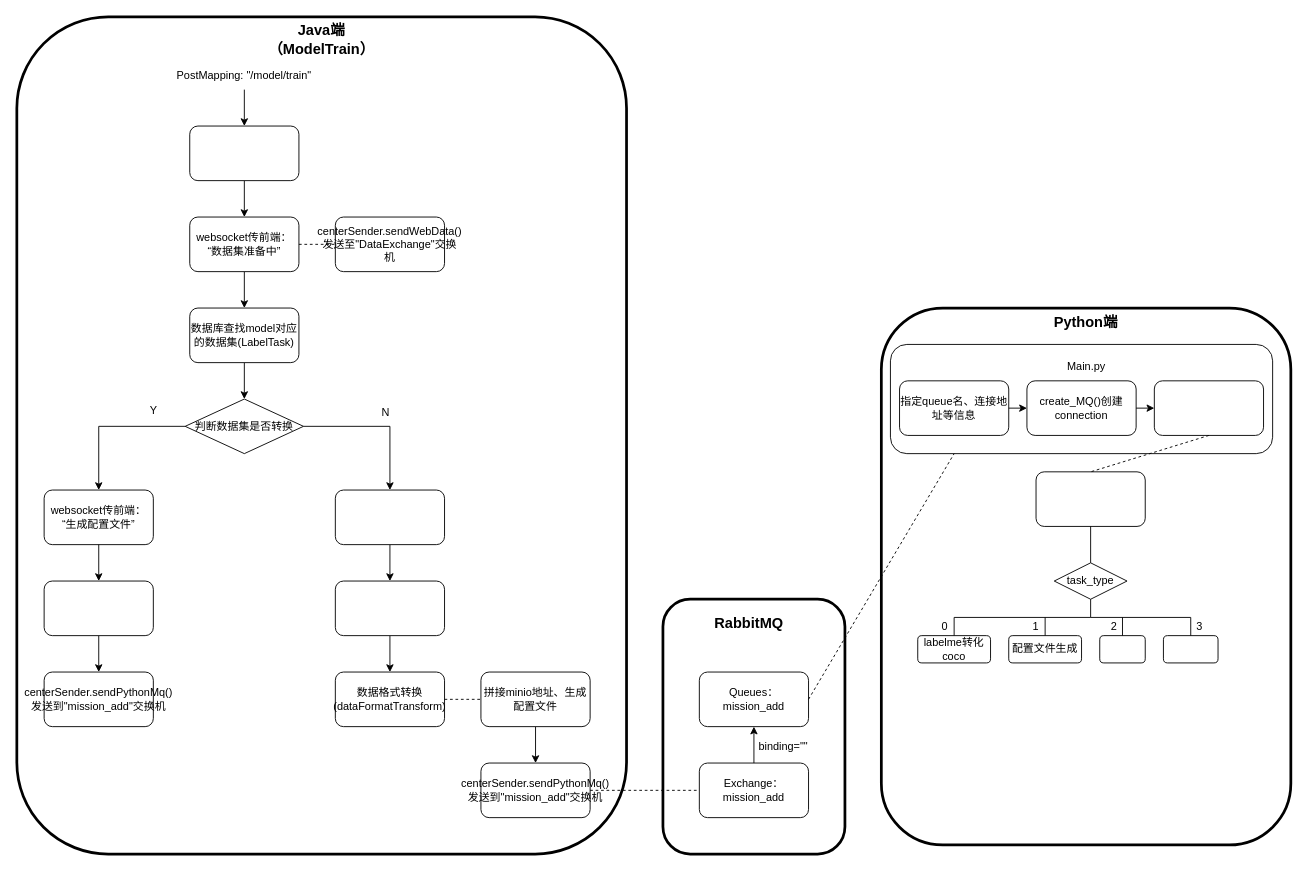
The diagram is 1308 pixels wide and 871 high, and some of its shapes have lost their labels. Each missing label, with the centre of its shape:
inference: (x=1190, y=649)
listen_channel() 监听消息: (x=1208, y=407)
python_listen_service_callback() 处理消息: (x=1090, y=498)
train: (x=1122, y=649)
websocket传前端：“数据集转换中”: (x=389, y=517)
根据id和username在数据库中查找model (modelResult): (x=244, y=153)
生成labelme文件至minio(addDataSetTominio ): (x=389, y=608)
生成配置文件: (x=98, y=608)
